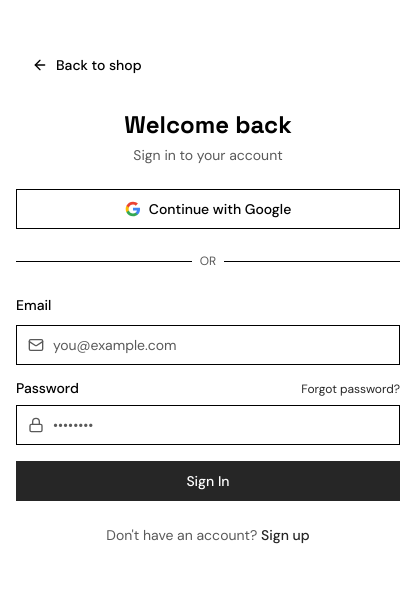
Test: AuthPage › switches back to login
Click the button "Sign up".
click(285, 535)  # box x1=261 y1=525 x2=310 y2=545
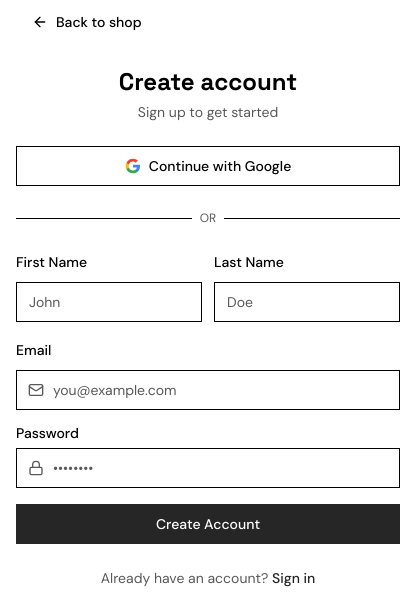
Click the button "Sign in".
click(294, 578)  # box x1=272 y1=568 x2=315 y2=588
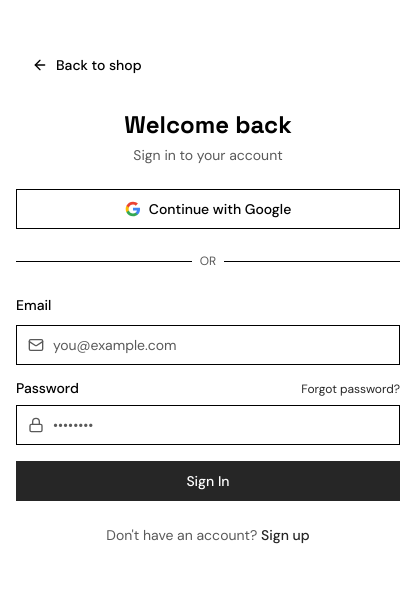
expect the heading "Welcome back" is shown: met, box x1=124 y1=109 x2=292 y2=140
